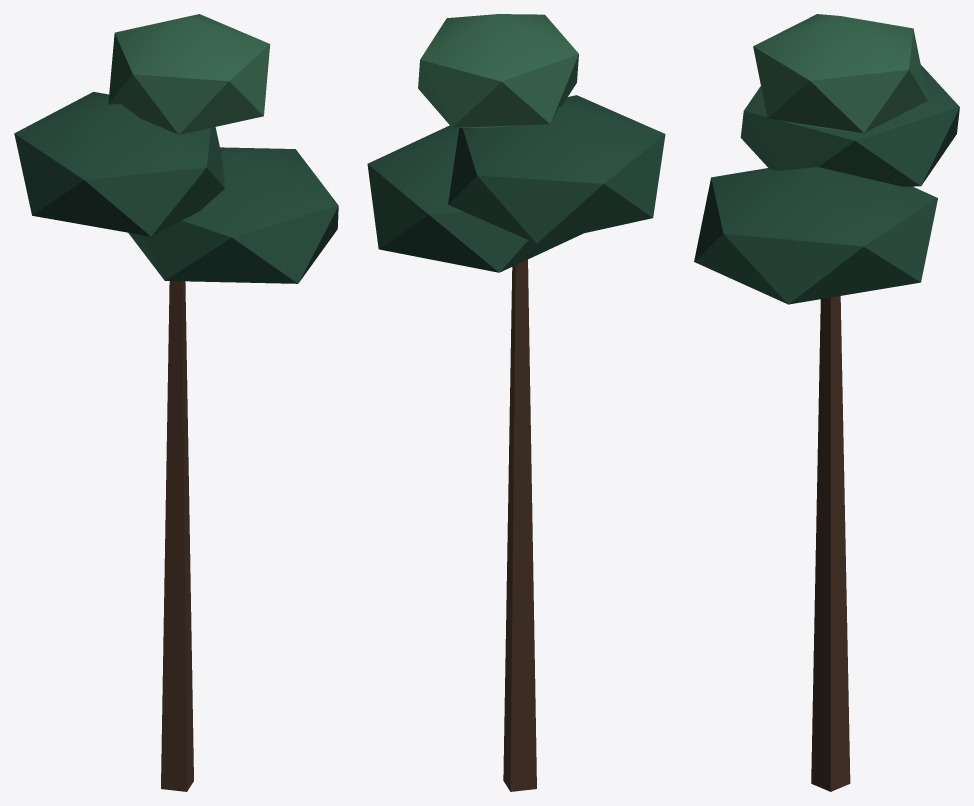
File: tree_pine_far.glb
3 views of the same model, side by side, from view 1: azimuth 30°, elevation 25°; view 2: azimuth 150°, elevation 25°; view 3: azimuth 270°, elevation 25° (orthographic). The views are drawn at different scales.
Parts seen in each view (by area): view 1: tree_pine_far; view 2: tree_pine_far; view 3: tree_pine_far.
Part boxes in pixels (x1,y1,x2,y2): tree_pine_far: (14,14,338,791); tree_pine_far: (367,14,665,791); tree_pine_far: (694,14,959,791).
Bounding box in the file's own units: 6.89 × 18 × 5.59.
Materials: 1 (1 with a texture image).
